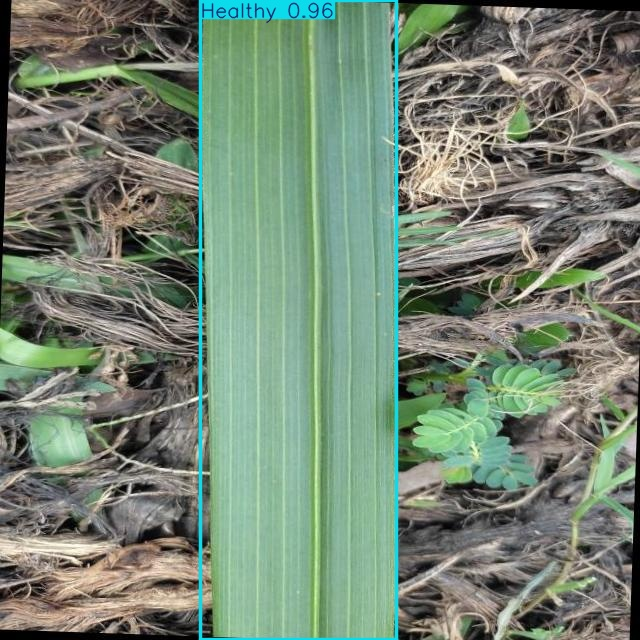Healthy: (201, 0, 397, 640)
